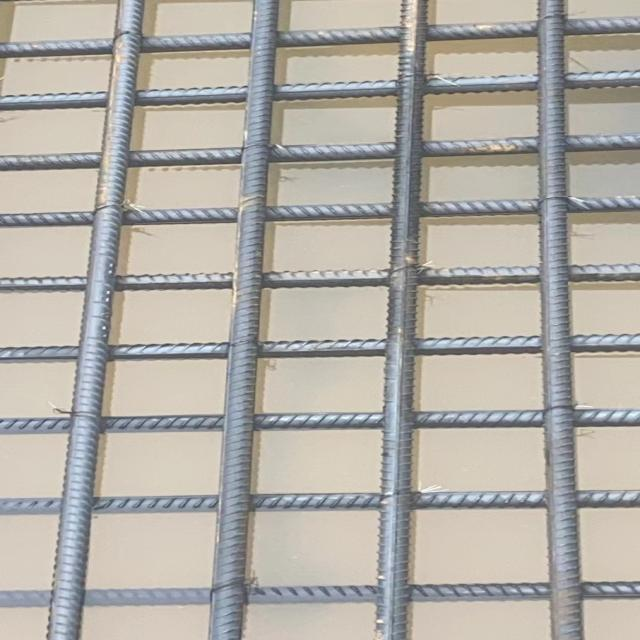ribbed bar: (41, 0, 145, 639), (204, 0, 281, 639), (372, 0, 428, 639), (535, 0, 583, 639), (0, 15, 639, 58), (0, 69, 639, 110), (0, 132, 639, 171), (0, 196, 639, 227), (0, 263, 639, 291), (0, 332, 639, 360), (0, 581, 639, 607), (0, 408, 639, 433), (0, 489, 639, 513)
